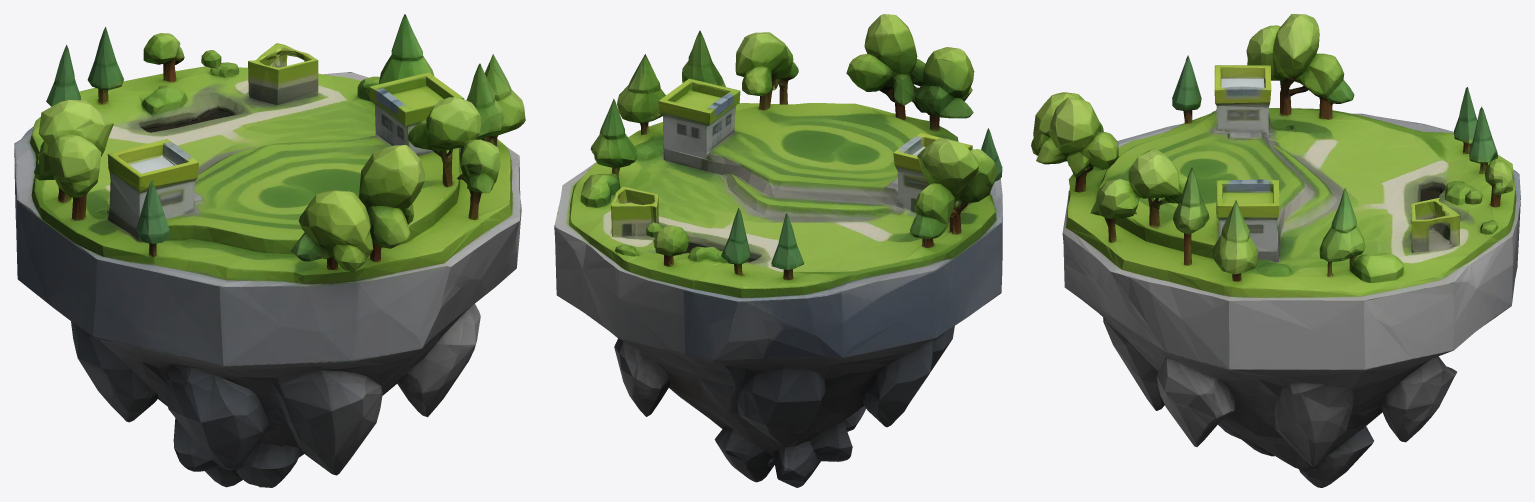
File: park-island-ai.glb
3 renders of one model, left to right at view 1: azimuth 30°, elevation 25°; view 2: azimuth 150°, elevation 25°; view 3: azimuth 270°, elevation 25°, orthographic. The views are drawn at different scales.
Visible parts, largest first — view 1: geometry_0; view 2: geometry_0; view 3: geometry_0.
Boxes of the visible parts, x1,y1,x2,y2 form: geometry_0: (14,14,525,487); geometry_0: (554,14,1002,487); geometry_0: (1031,14,1520,487).
Bounding box in the file's own units: 0.9239 × 0.8569 × 0.99.
1 material, 1 textured.
